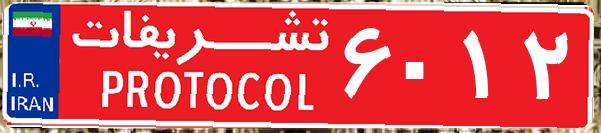0: (400, 20, 460, 115)
1: (460, 20, 520, 115)
2: (520, 20, 580, 115)
6: (340, 20, 400, 115)
تشریفات: (60, 8, 340, 125)
